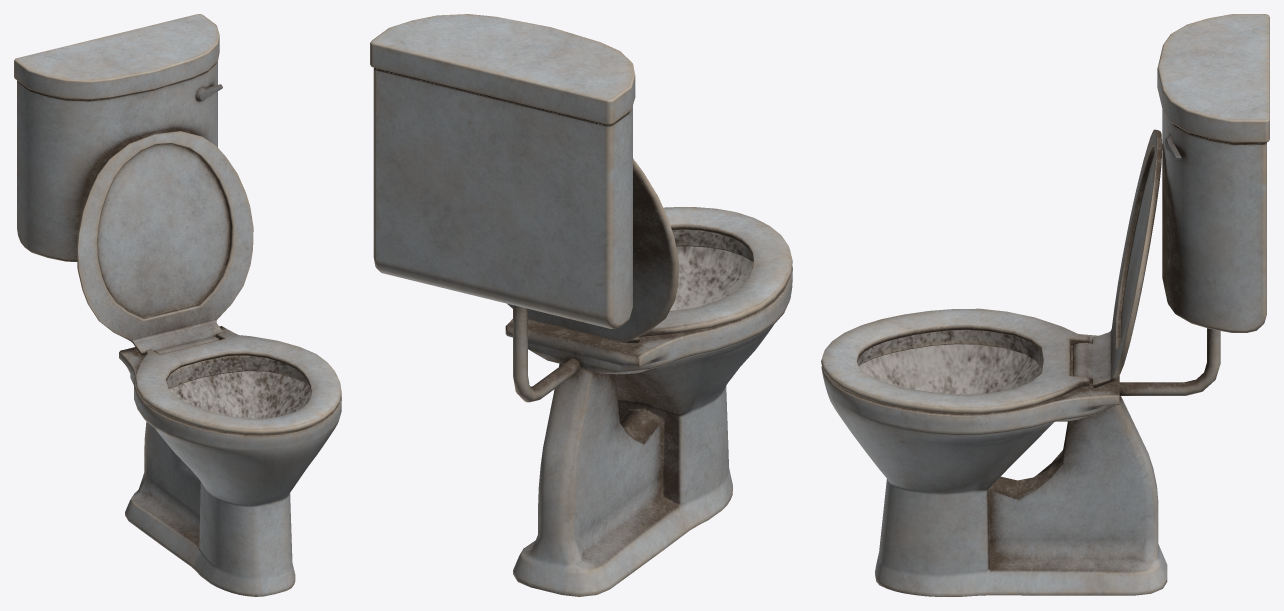
Rendered from Toilet.fbx.
The picture shows the model from 3 angles, left to right: view 1: azimuth 30°, elevation 25°; view 2: azimuth 150°, elevation 25°; view 3: azimuth 270°, elevation 25°; orthographic projection. The views are drawn at different scales.
Visible parts, largest first — view 1: Toilet; view 2: Toilet; view 3: Toilet.
Boxes of the visible parts, bbox=[...] form: Toilet: bbox=[14, 14, 341, 596]; Toilet: bbox=[370, 14, 792, 596]; Toilet: bbox=[821, 14, 1269, 596].
Size of the model in its own units: 30.28 by 66.72 by 53.4.
